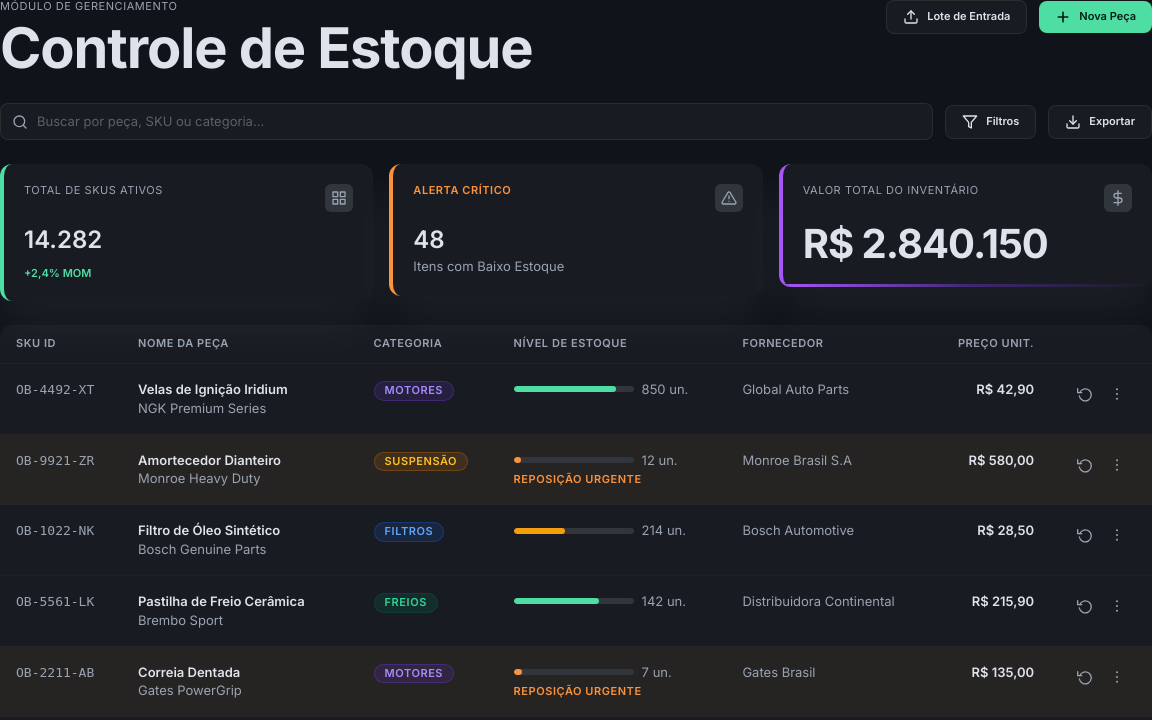
InventoryPage — 3.3 Exportar CSV › exportar com filtro crítico ativo exibe apenas itens críticos no toast
Click the button "Alerta Crítico 48 Itens com Baixo Estoque" at (462, 190), box [389,164,763,296]
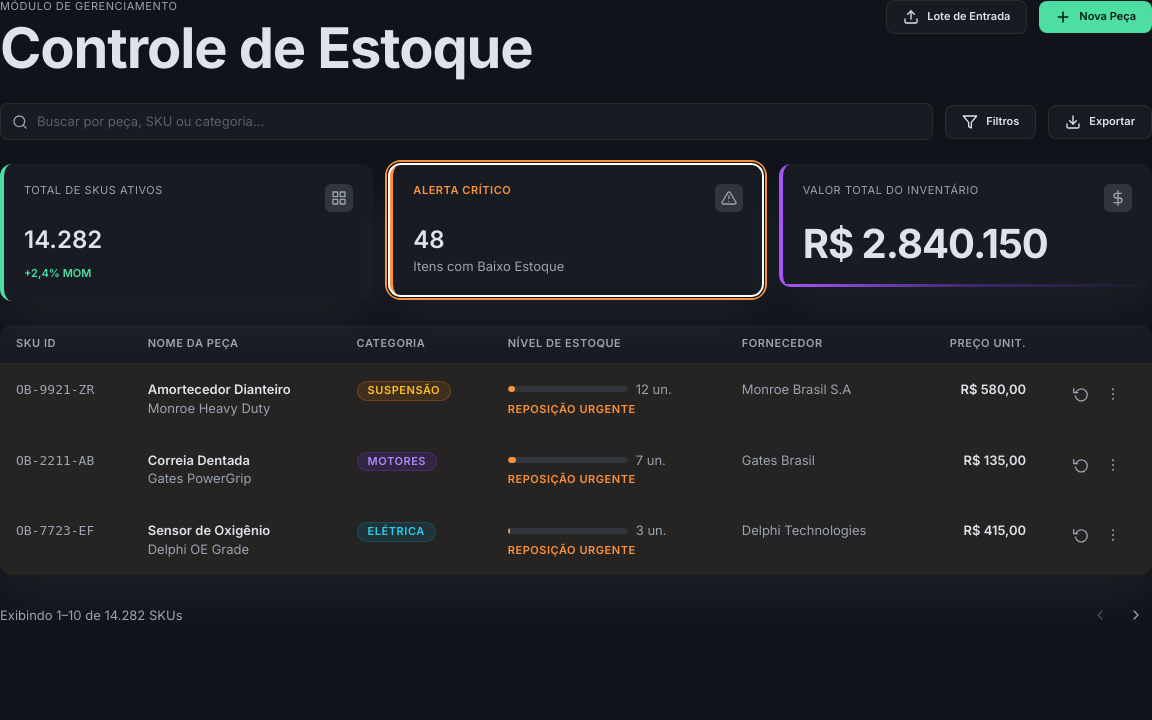
Click the button with aria-label "exportar dados" at (1100, 122), box [1048,105,1151,139]
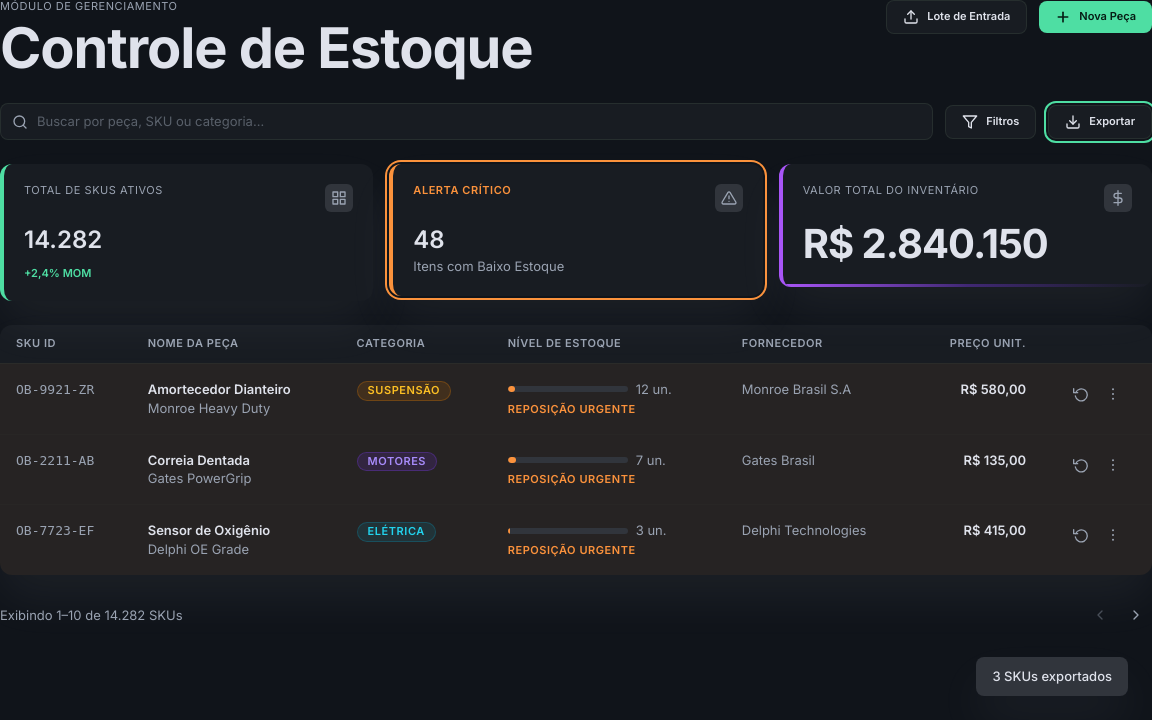
Now the message shows "SKU", box [976,657,1128,696]
